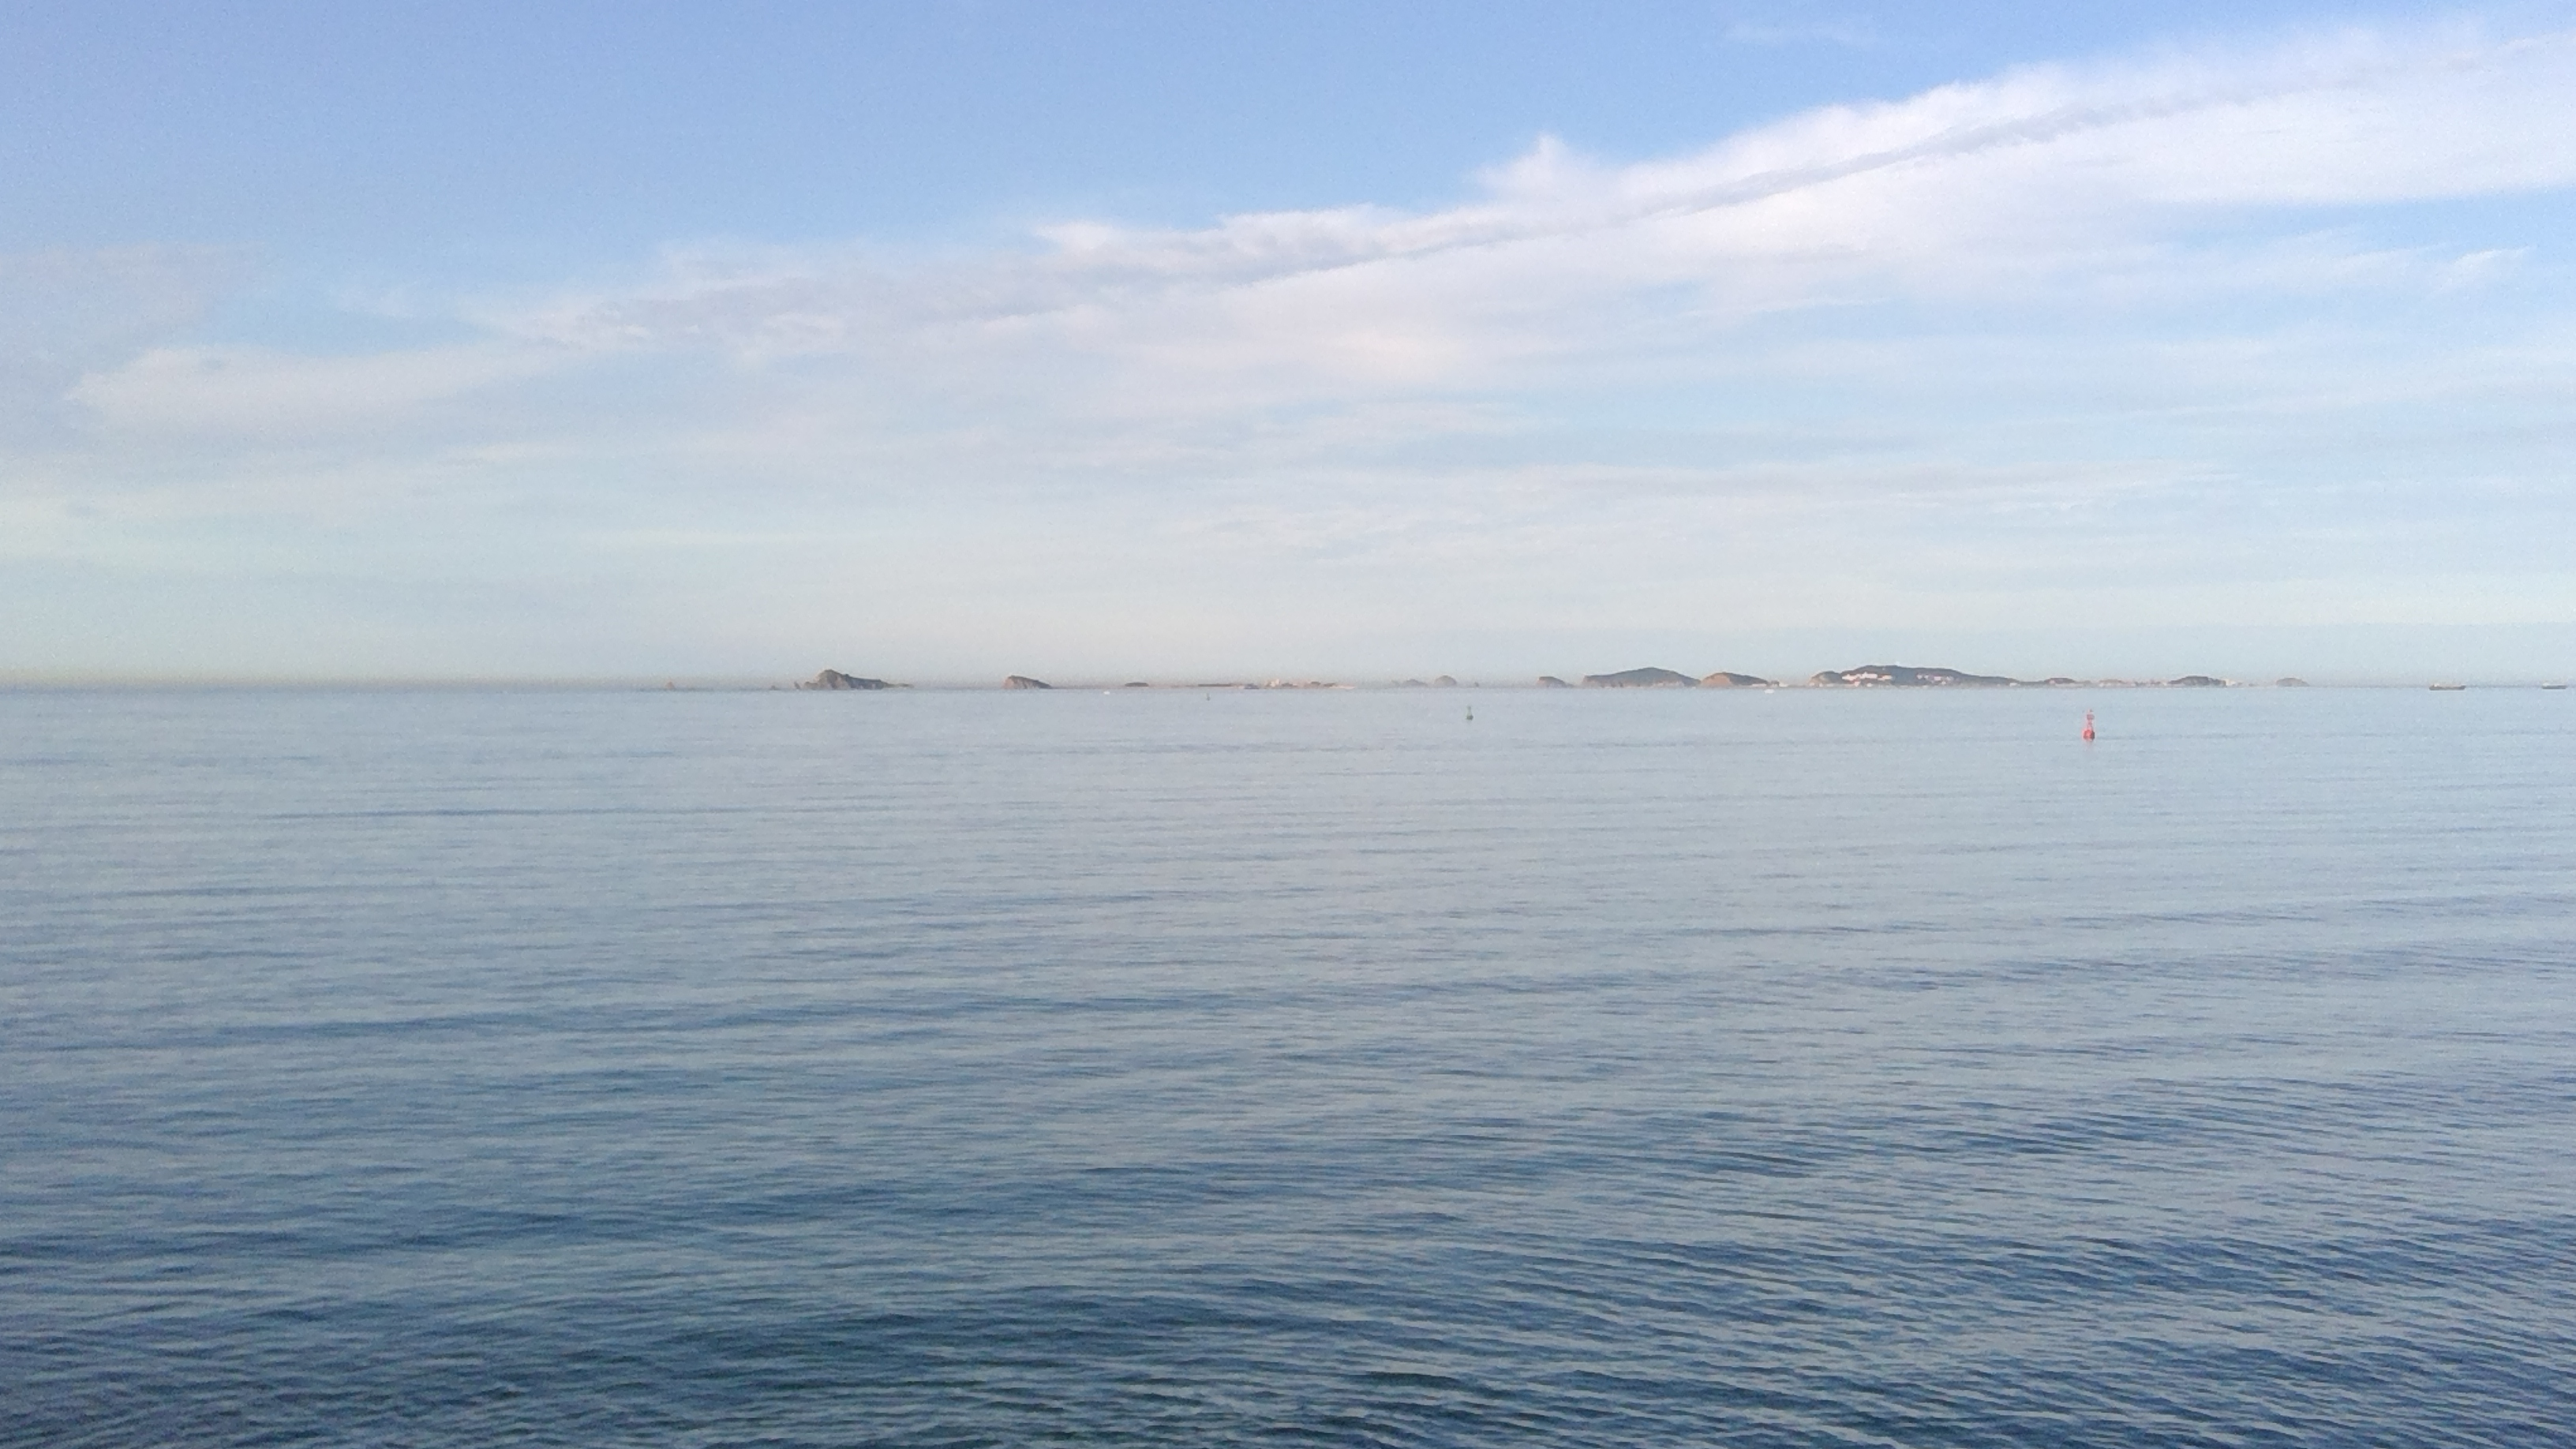harbor: (2070, 715, 2112, 750)
rock: (1537, 660, 1776, 699), (1813, 655, 2031, 688), (789, 662, 899, 699), (1003, 656, 1054, 704)
